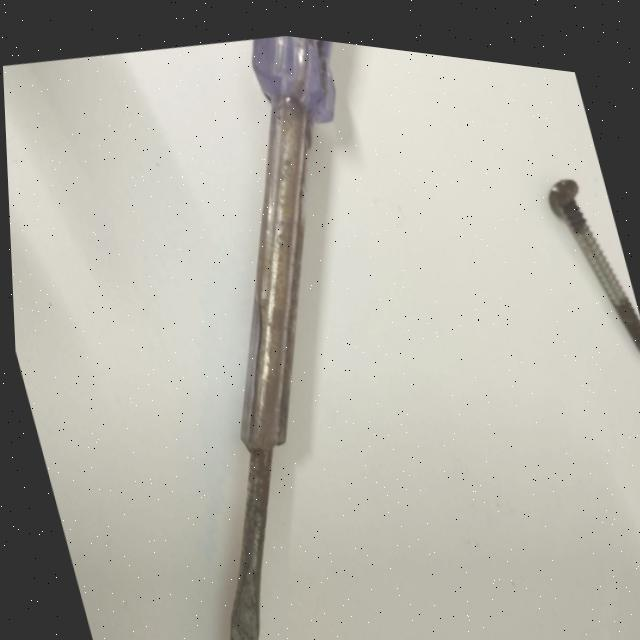corrosion: (224, 182, 302, 640)
